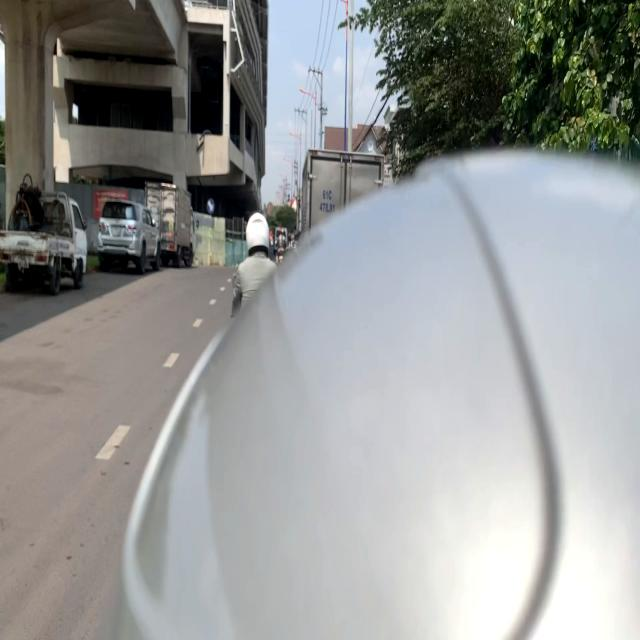Vong chuong ngai vat sang phai: (206, 198, 215, 215)
